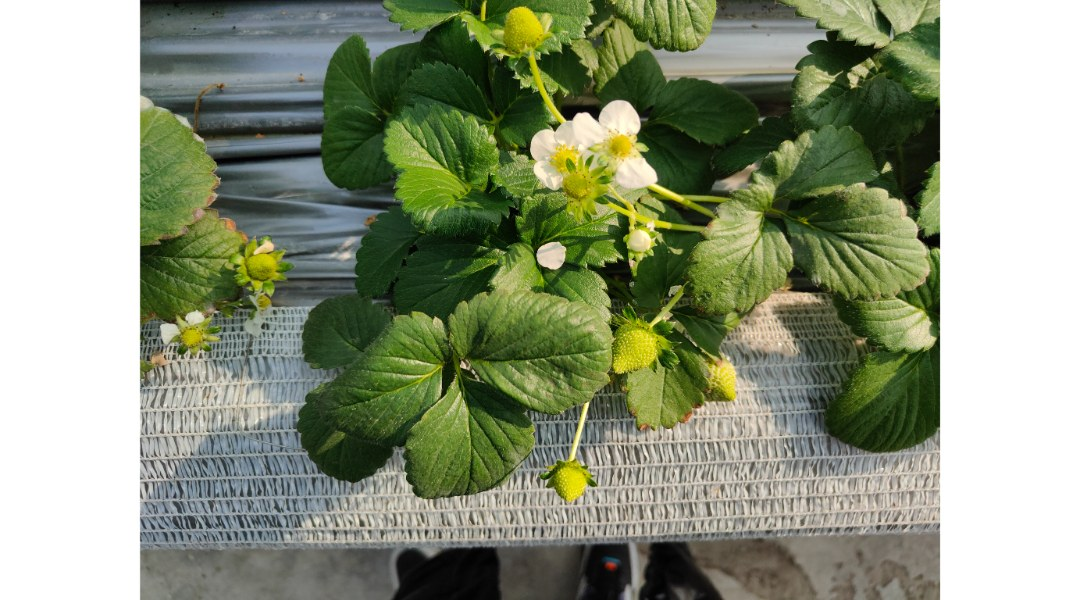berry: (601, 297, 661, 378), (492, 4, 564, 61), (231, 221, 280, 291), (692, 342, 741, 410), (540, 461, 601, 505), (157, 312, 208, 358)
flower: (571, 97, 663, 204), (532, 110, 605, 188), (620, 217, 649, 262)
strain: (524, 59, 559, 126), (647, 280, 689, 328), (570, 399, 589, 471), (652, 218, 711, 232)
